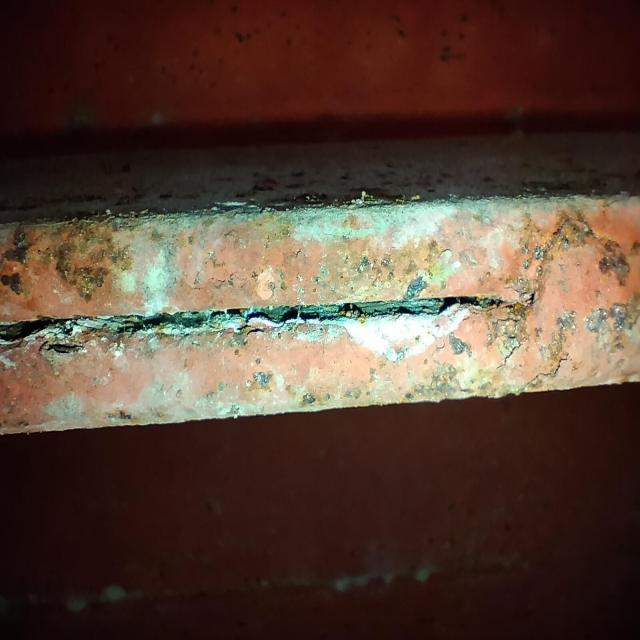Crack: (0, 287, 513, 353), (523, 351, 571, 391), (493, 333, 531, 374)
